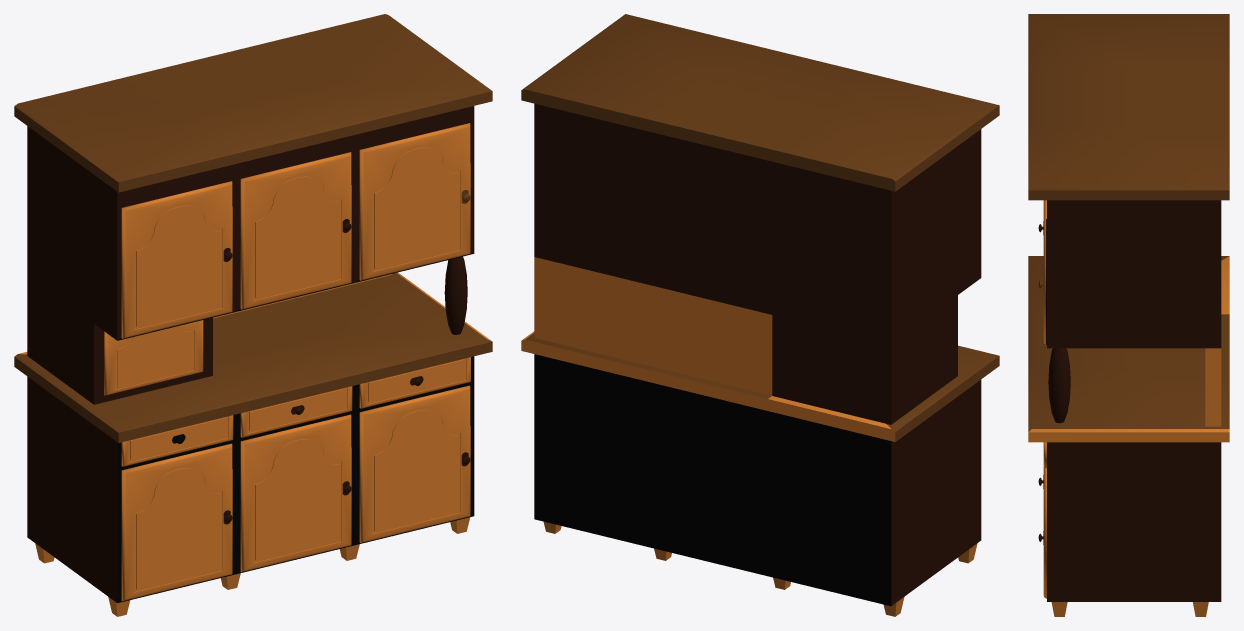
The model's file is SM_Gros_Buffet.fbx.
3 views of the same model, side by side, from view 1: azimuth 30°, elevation 25°; view 2: azimuth 150°, elevation 25°; view 3: azimuth 270°, elevation 25° (orthographic). The views are drawn at different scales.
Parts seen in each view (by area): view 1: SM_Gros_Buffet; view 2: SM_Gros_Buffet; view 3: SM_Gros_Buffet.
Boxes of the visible parts, x1,y1,x2,y2 form: SM_Gros_Buffet: [14, 14, 492, 616]; SM_Gros_Buffet: [521, 14, 999, 616]; SM_Gros_Buffet: [1028, 14, 1229, 616].
Bounding box in the file's own units: 1.68 × 1.92 × 0.8087.
